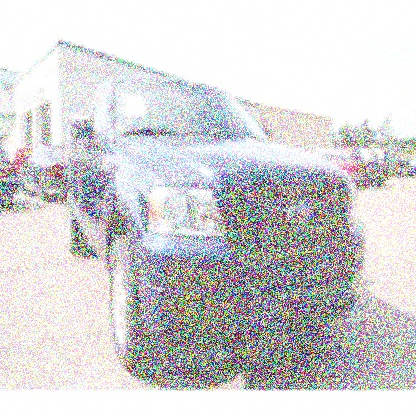Vehicle: (61, 75, 371, 378)
